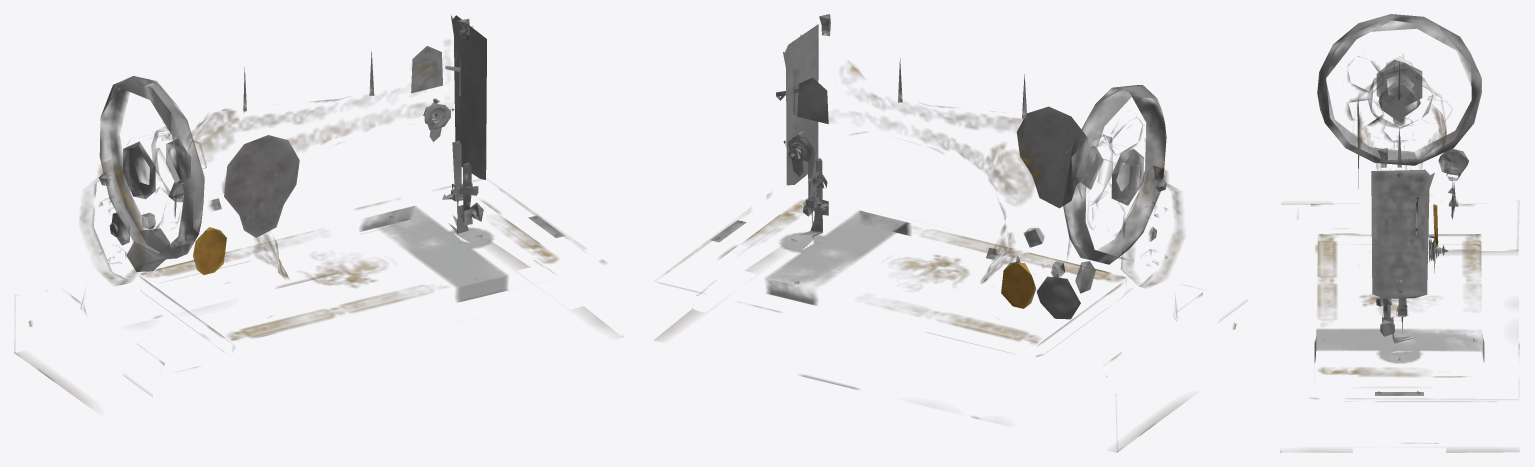
File: sewing-machine-hand.lod1.glb
3 views of the same model, side by side, from view 1: azimuth 30°, elevation 25°; view 2: azimuth 150°, elevation 25°; view 3: azimuth 270°, elevation 25° (orthographic). The views are drawn at different scales.
Visible parts, largest first — view 1: sewing-machine-hand; view 2: sewing-machine-hand; view 3: sewing-machine-hand.
Boxes of the visible parts, x1=… form: sewing-machine-hand: x1=14, y1=14, x2=613, y2=405; sewing-machine-hand: x1=654, y1=14, x2=1246, y2=452; sewing-machine-hand: x1=1280, y1=14, x2=1519, y2=452.
Bounding box in the file's own units: 0.5932 × 0.3263 × 0.2679.
Materials: 1 (1 with a texture image).
